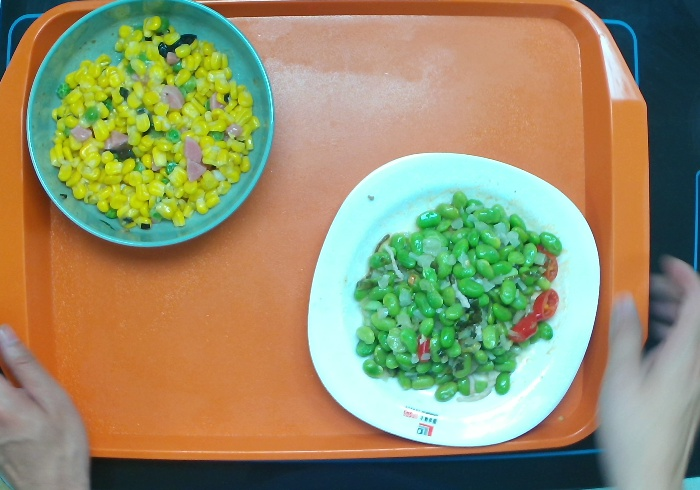ZNLD-Qing_Hua_Yuan_Wan: (18, 1, 278, 261)
ZNLD-Yuan_Jiao_Pan: (295, 142, 620, 453)
